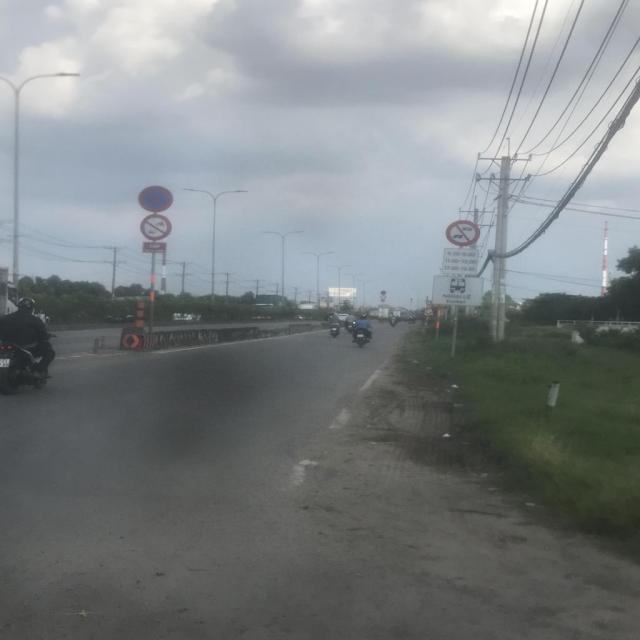cam_dung_xe_va_do_xe: (138, 186, 174, 213)
cam_o_to_tai_va_xe_khach: (446, 221, 480, 247)
cam_re_phai: (423, 307, 434, 314)
cam_xe_2_banh_va_xe_3_banh_co_dong_co: (139, 214, 172, 240)
khac: (432, 276, 483, 307), (443, 248, 478, 275)
